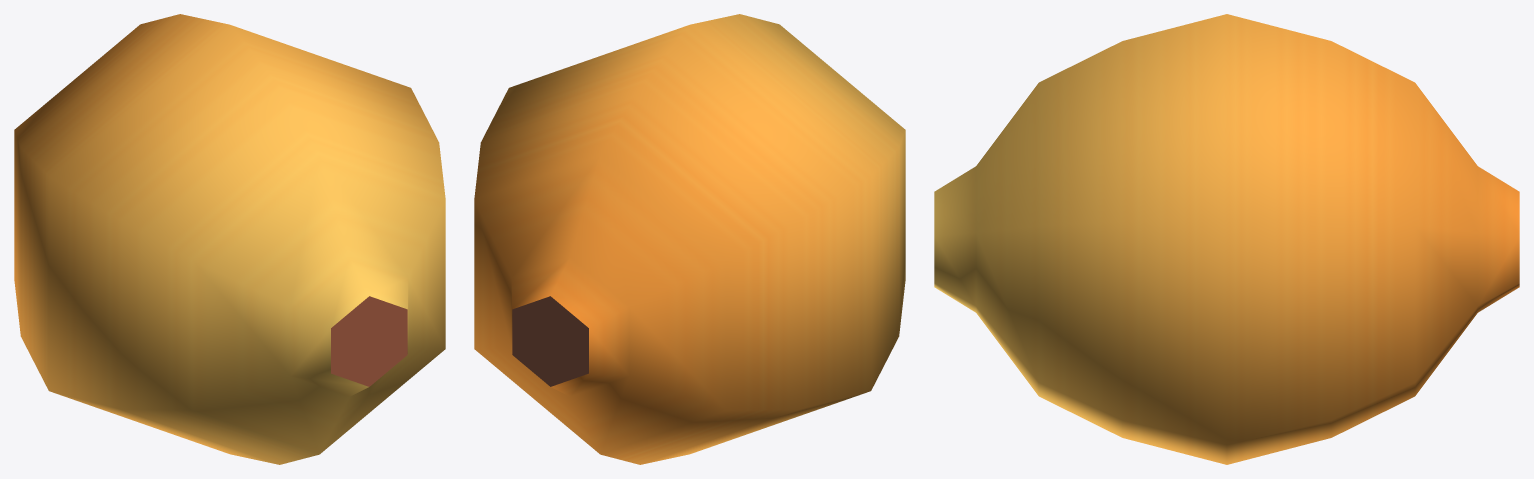
3 views of the same model, side by side, from view 1: azimuth 30°, elevation 25°; view 2: azimuth 150°, elevation 25°; view 3: azimuth 270°, elevation 25° (orthographic). The views are drawn at different scales.
Parts seen in each view (by area): view 1: lemon; view 2: lemon; view 3: lemon.
Part boxes in pixels (box(x1,y1,x2,y2)): lemon: box(14, 14, 445, 464); lemon: box(474, 14, 905, 464); lemon: box(934, 14, 1519, 464).
Size of the model in its own units: 0.075 by 0.085 by 0.1.
Materials: 1 (1 with a texture image).
